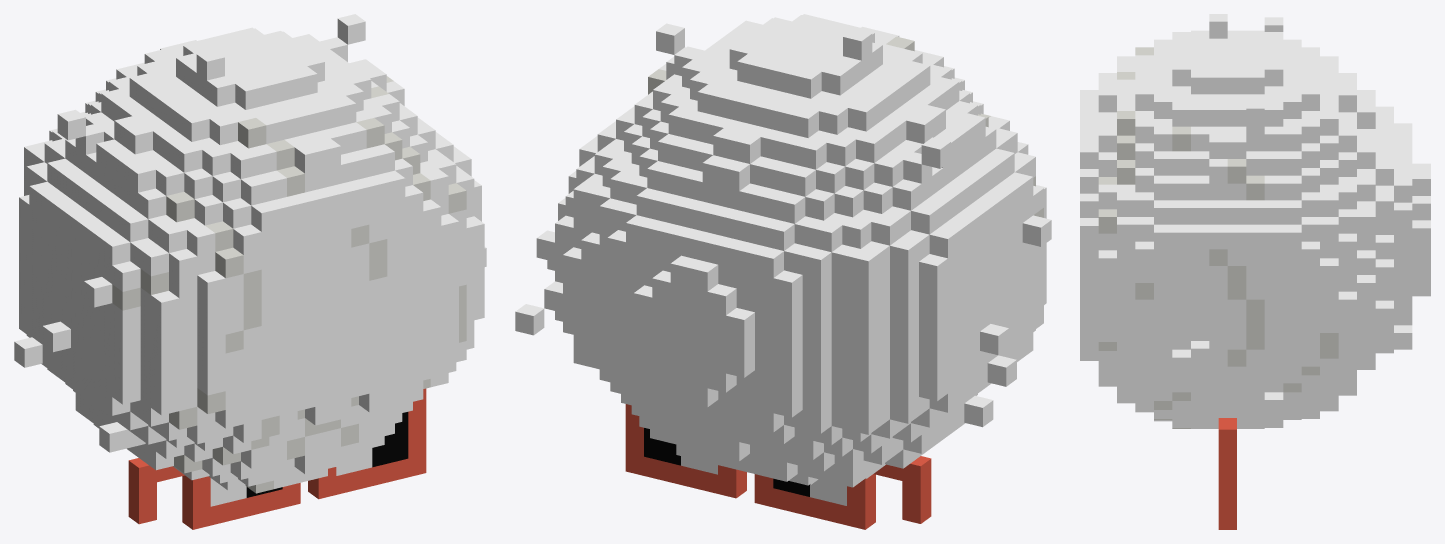
Rendered from cottonball.glb.
The picture shows the model from 3 angles, left to right: view 1: azimuth 30°, elevation 25°; view 2: azimuth 150°, elevation 25°; view 3: azimuth 270°, elevation 25°; orthographic projection. The views are drawn at different scales.
Visible parts, largest first — view 1: base (1), l2, glasses, layer-2; view 2: base (1), glasses, layer-2; view 3: base (1), l3, l2, glasses.
Boxes of the visible parts, x1,y1,x2,y2 form: base (1): [14, 14, 486, 490]; l2: [112, 86, 466, 493]; glasses: [128, 388, 426, 529]; layer-2: [210, 412, 408, 506]; base (1): [515, 14, 1051, 487]; glasses: [625, 404, 931, 529]; layer-2: [644, 428, 846, 505]; base (1): [1080, 14, 1430, 428]; l3: [1209, 159, 1338, 392]; l2: [1098, 47, 1190, 428]; glasses: [1218, 418, 1236, 529].
Bounding box in the file's own units: 24 × 25 × 19.
Materials: 6 (6 with a texture image).
